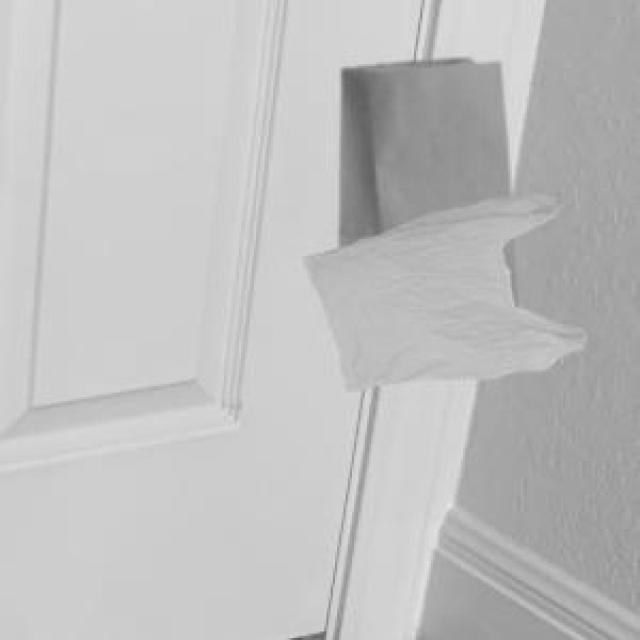paper: (336, 56, 513, 303)
